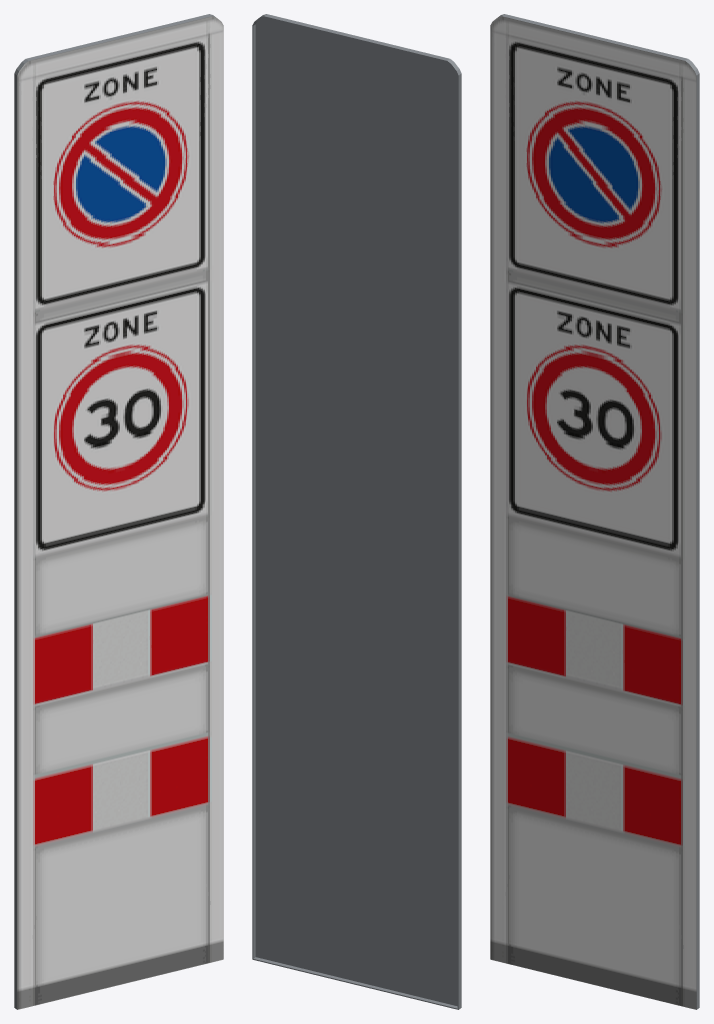
3 views of the same model, side by side, from view 1: azimuth 30°, elevation 25°; view 2: azimuth 150°, elevation 25°; view 3: azimuth 330°, elevation 25° (orthographic).
Visible parts, largest first — view 1: cat_5ec4a406509aebab; view 2: cat_5ec4a406509aebab; view 3: cat_5ec4a406509aebab.
Part boxes in pixels (bbox=[...]): cat_5ec4a406509aebab: bbox=[14, 14, 223, 1009]; cat_5ec4a406509aebab: bbox=[252, 14, 461, 1009]; cat_5ec4a406509aebab: bbox=[490, 14, 699, 1009].
Size of the model in its own units: 0.6 by 0.015 by 2.63.
Materials: 2 (1 with a texture image).
